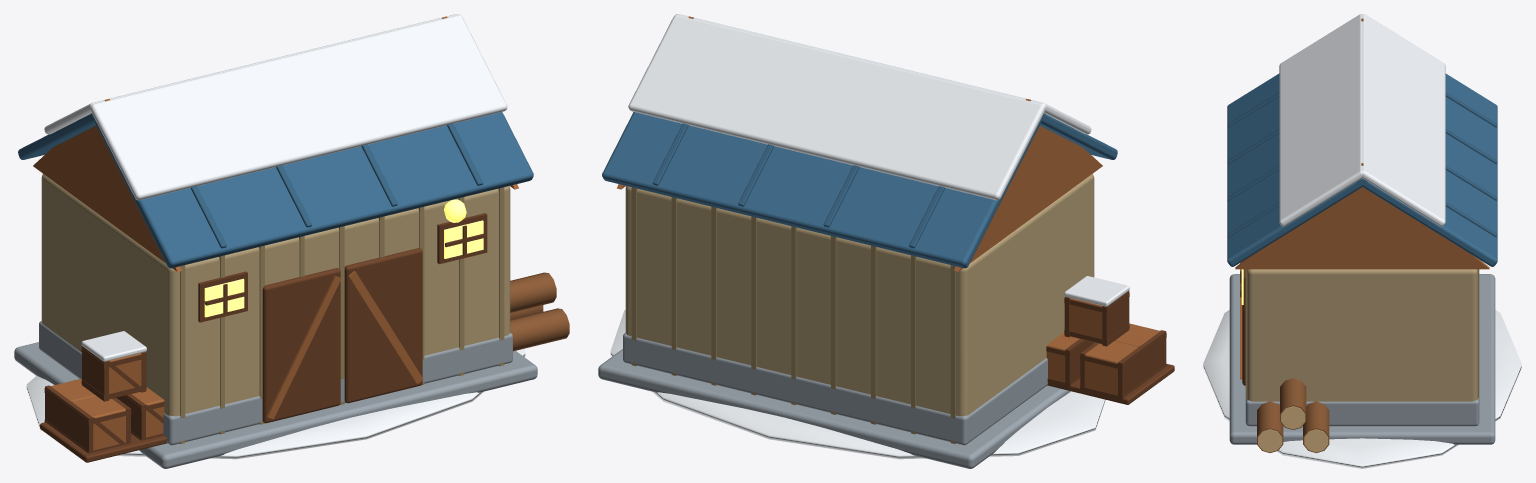
File: warehouse.glb
The picture shows the model from 3 angles, left to right: view 1: azimuth 30°, elevation 25°; view 2: azimuth 150°, elevation 25°; view 3: azimuth 270°, elevation 25°; orthographic projection. The views are drawn at different scales.
Parts seen in each view (by area): view 1: hall, warehouse, doorR, doorL, crate (×4), log_pile, storage; view 2: hall, warehouse, crate (×4), storage; view 3: hall, warehouse, log_pile, doorR.
Part boxes in pixels (bbox=[...]): hall: bbox=[18, 14, 533, 445]; warehouse: bbox=[14, 199, 537, 468]; doorR: bbox=[344, 248, 423, 403]; doorL: bbox=[262, 268, 341, 423]; crate (×4): bbox=[44, 346, 164, 453]; log_pile: bbox=[510, 272, 569, 351]; storage: bbox=[40, 331, 167, 462]; hall: bbox=[602, 14, 1117, 445]; warehouse: bbox=[598, 310, 1105, 468]; crate (×4): bbox=[1046, 291, 1166, 402]; storage: bbox=[1047, 276, 1174, 404]; hall: bbox=[1227, 14, 1497, 426]; warehouse: bbox=[1203, 274, 1521, 468]; log_pile: bbox=[1257, 378, 1329, 453]; doorR: bbox=[1240, 261, 1245, 385].
Size of the model in its own units: 4.29 by 2.75 by 2.76.
